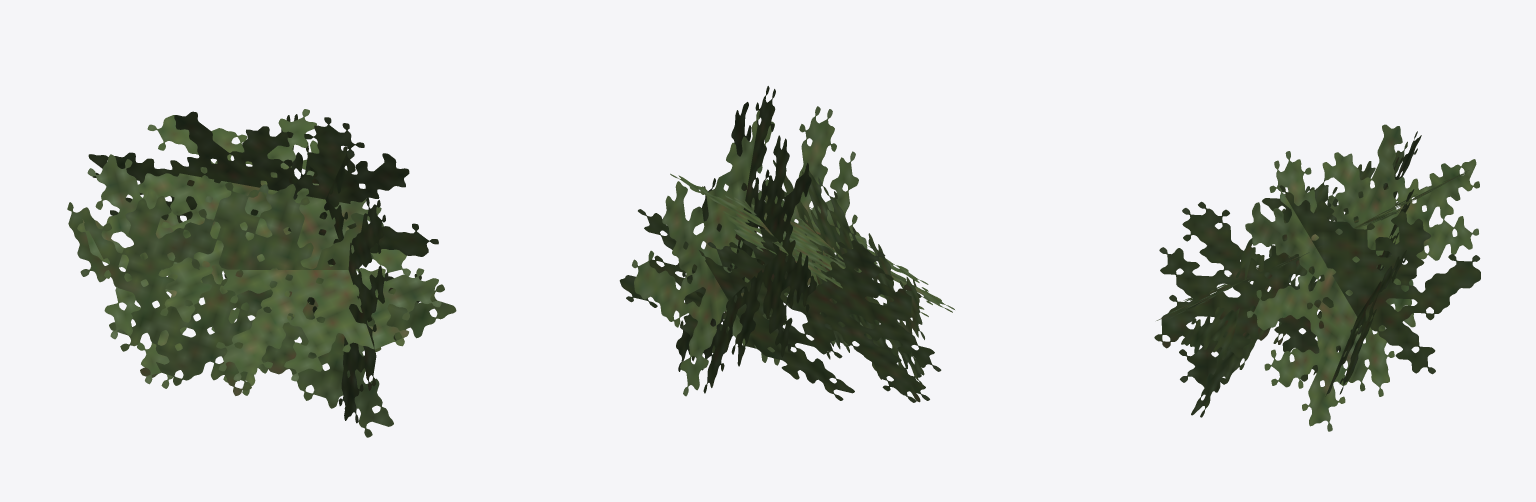
The model's file is pine_leaves_dark_2.obj.
The picture shows the model from 3 angles, left to right: view 1: azimuth 30°, elevation 25°; view 2: azimuth 150°, elevation 25°; view 3: azimuth 270°, elevation 25°; orthographic projection. The views are drawn at different scales.
Visible parts, largest first — view 1: plane; view 2: plane; view 3: plane.
Part boxes in pixels (x1,y1,x2,y2): plane: (67, 109, 456, 437); plane: (619, 86, 954, 402); plane: (1154, 124, 1480, 431).
Size of the model in its own units: 1.85 by 1.93 by 1.82.
